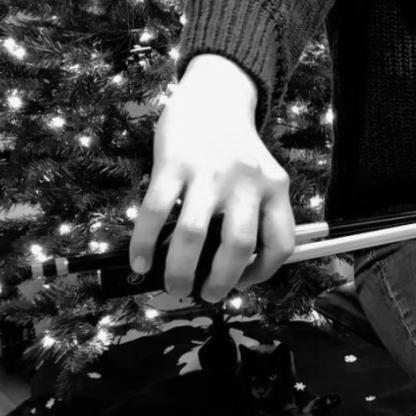good: (109, 135, 311, 299)
